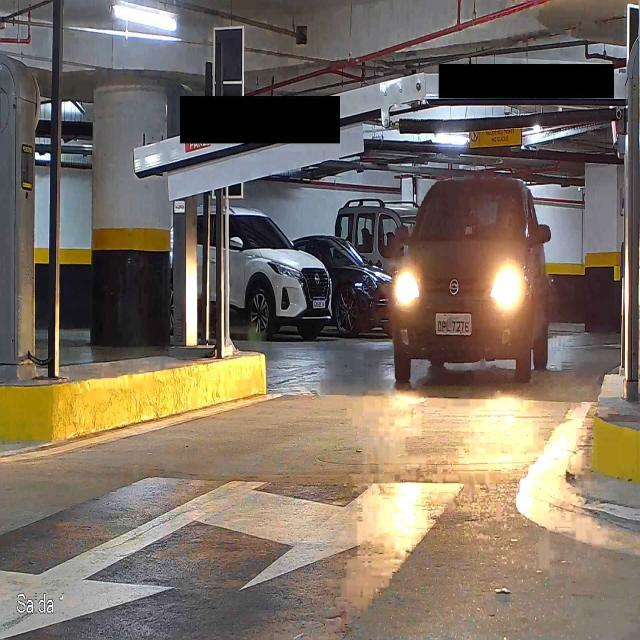old_plate: (434, 311, 474, 337)
